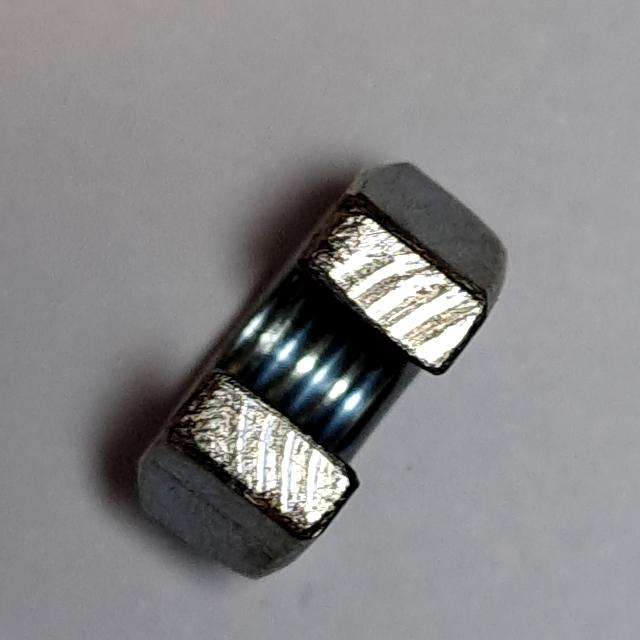Side-Fracture: (126, 149, 525, 601)
